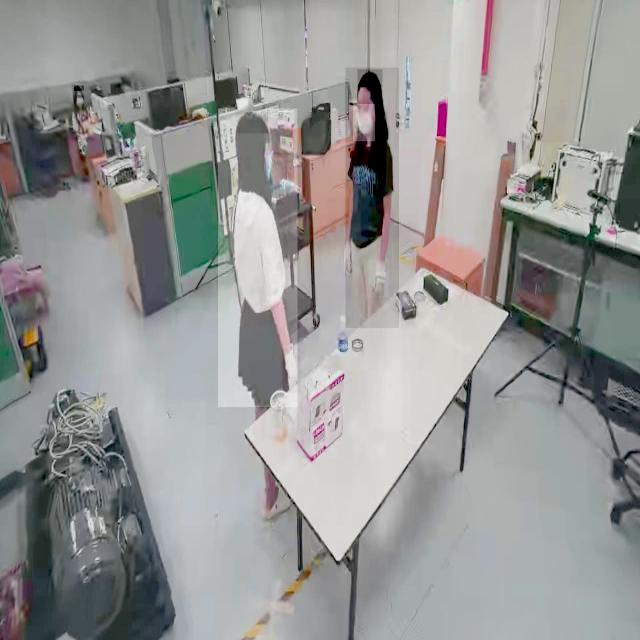face_mask: (353, 104, 375, 141)
hand_glove: (282, 348, 300, 394), (369, 260, 389, 298), (340, 239, 354, 278)
head_nohelmet: (235, 108, 269, 134), (357, 69, 383, 88), (74, 85, 84, 92)
person: (218, 108, 298, 408), (345, 67, 399, 329)
